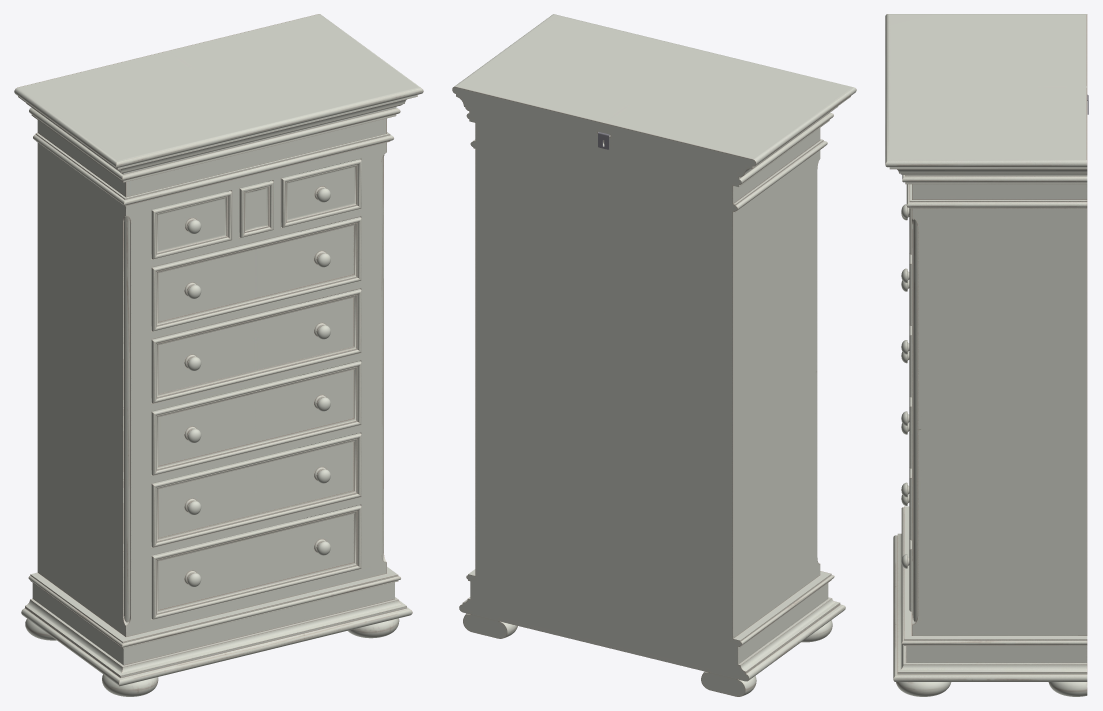
Rendered from example132.gltf.
3 views of the same model, side by side, from view 1: azimuth 30°, elevation 25°; view 2: azimuth 150°, elevation 25°; view 3: azimuth 270°, elevation 25° (orthographic).
Size of the model in its own units: 72.4 by 123 by 41.78.
Materials: 2 (1 with a texture image).
